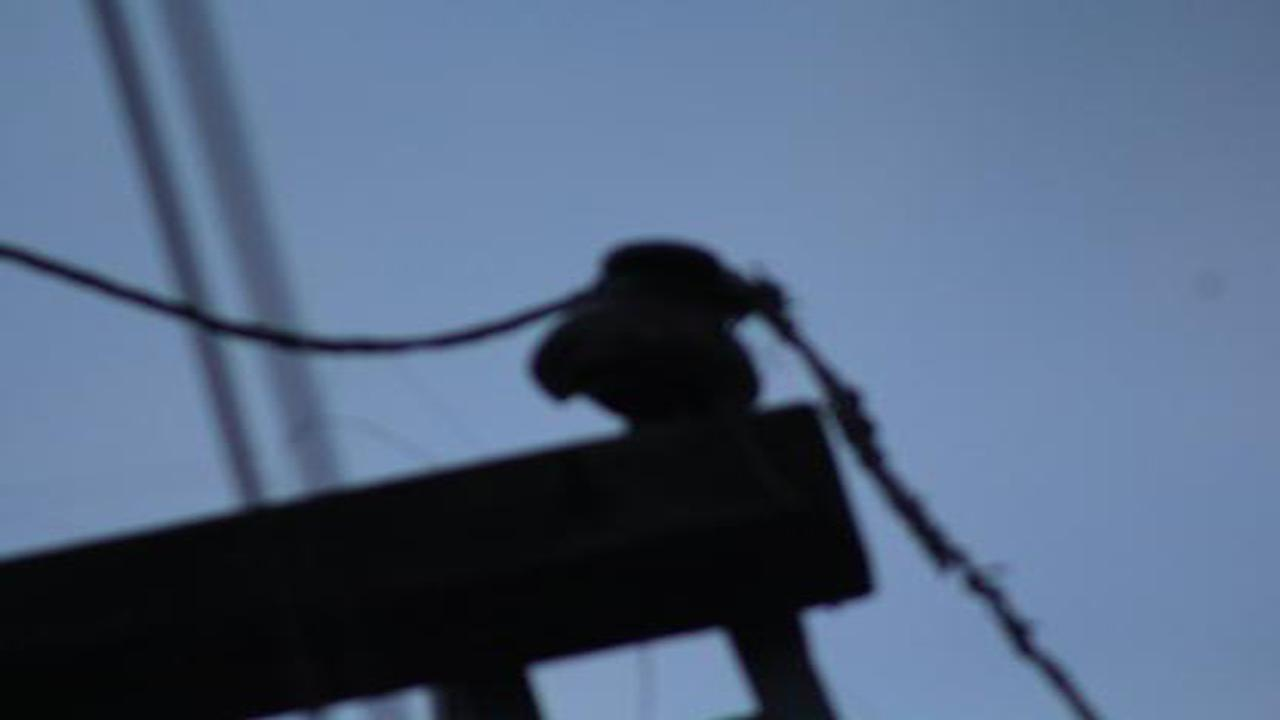defect_pin: (524, 230, 769, 433)
